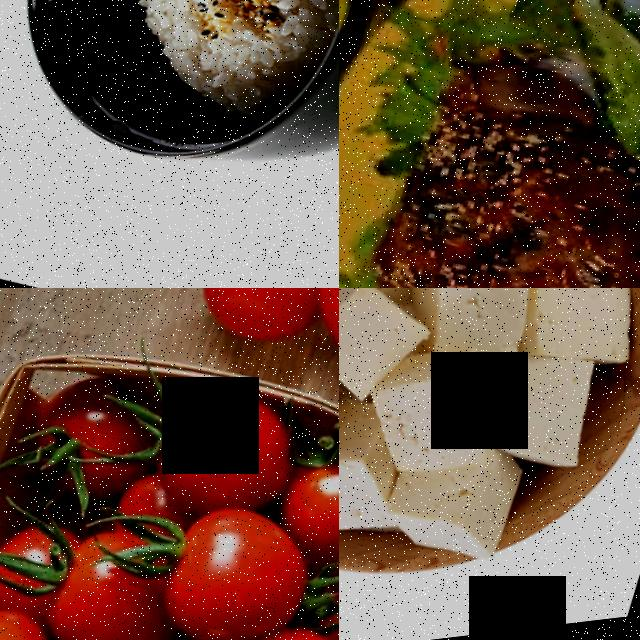tofu: (369, 356, 514, 509), (372, 469, 508, 585), (501, 288, 640, 398), (339, 288, 441, 423), (407, 288, 537, 380)
tomato: (130, 367, 311, 546), (135, 489, 322, 640), (174, 288, 339, 373)
white rice: (164, 27, 303, 139), (117, 0, 219, 61)
